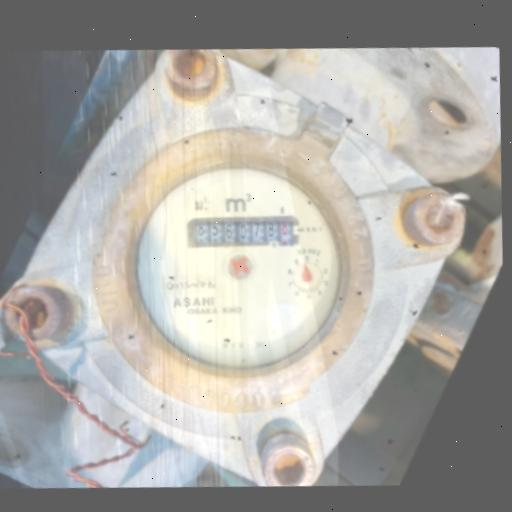0: (238, 220, 250, 240)
5: (210, 221, 222, 242)
6: (224, 221, 235, 242)
7: (252, 220, 264, 241)
8: (195, 221, 209, 243), (279, 220, 290, 246), (266, 220, 278, 240)
border_water_meter_number: (186, 210, 302, 253)
